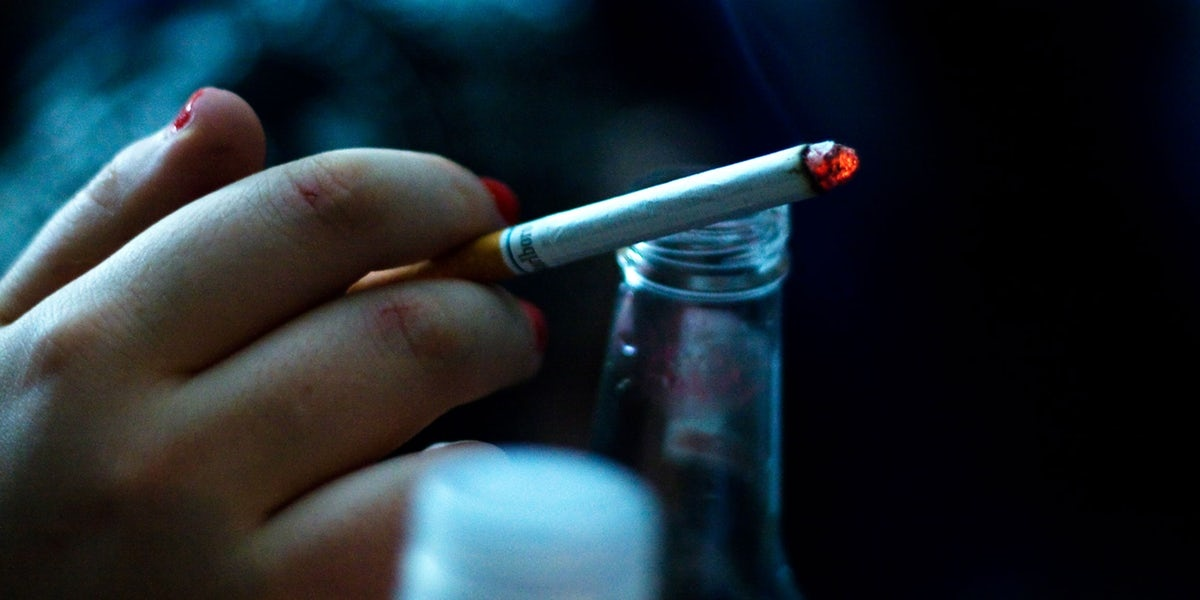sigaretta: (433, 127, 872, 285)
